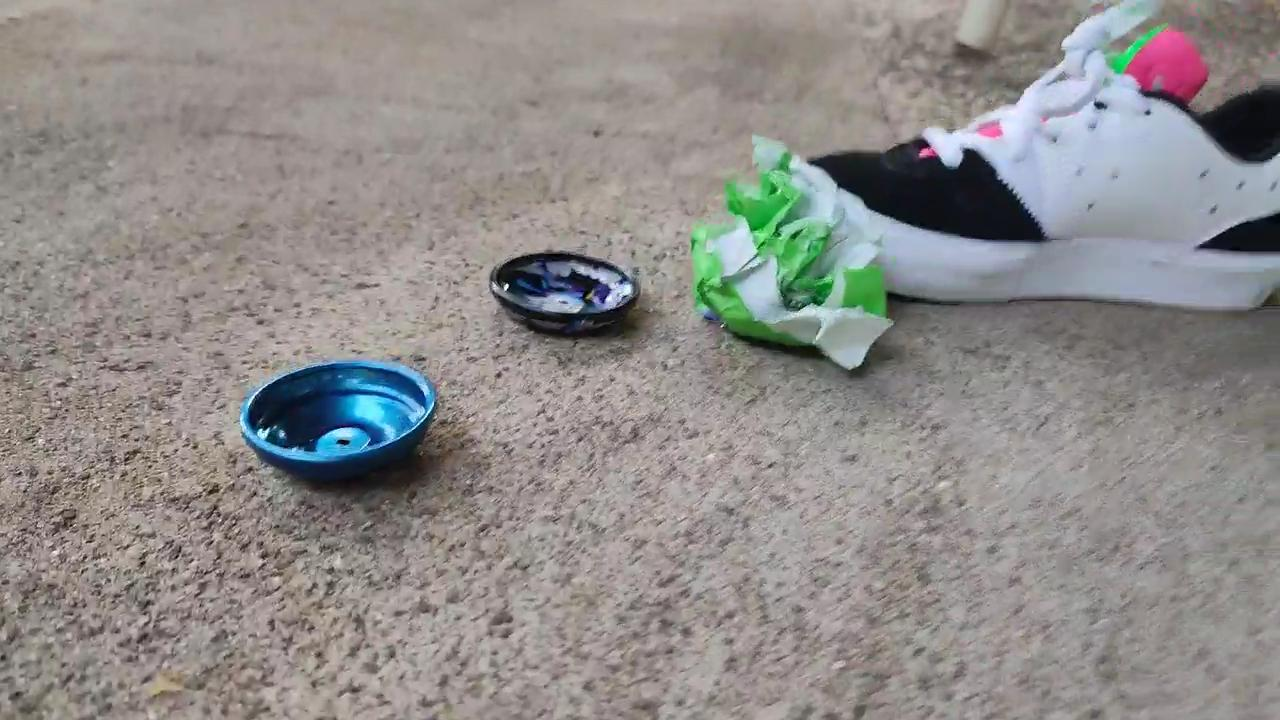Paper: (697, 127, 897, 372)
